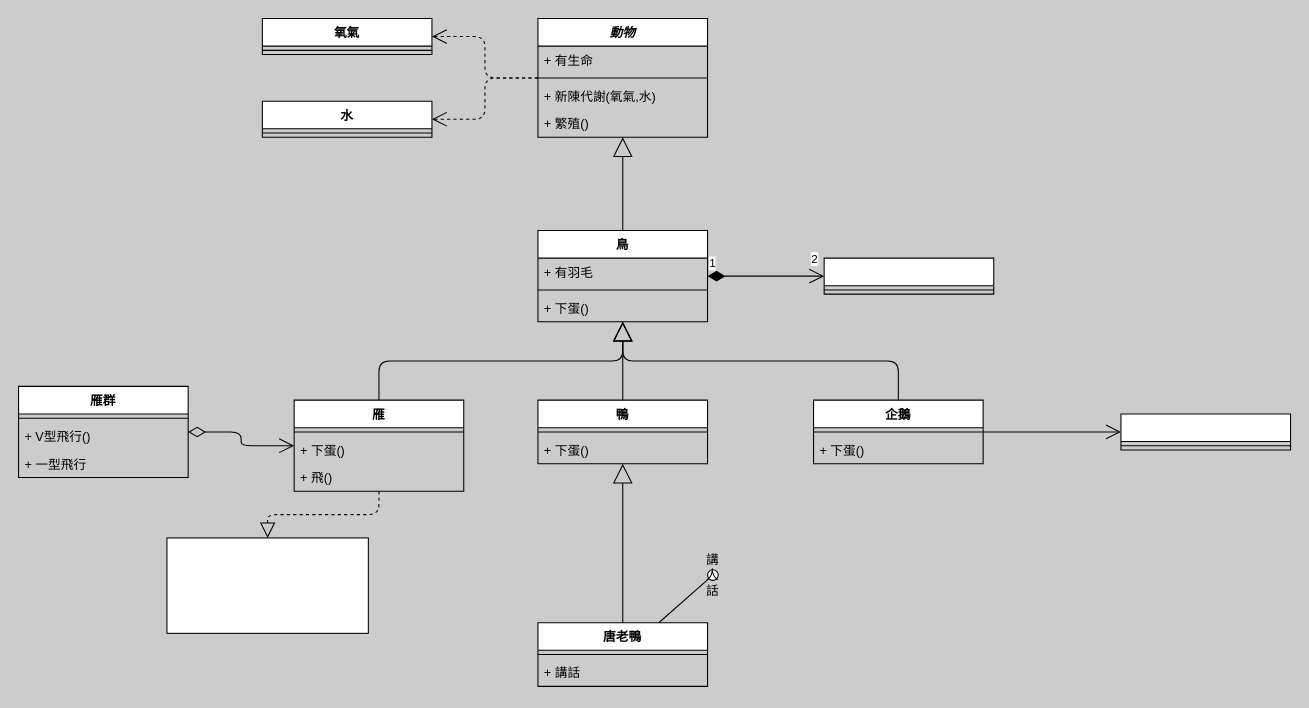
Image size: 1309x708. Some labels were removed from this diagram. The centre of each missing label's shape, as x and y in pixels:
"<<Interface>> 飛翔 + 飛()" goes at point 267,585.
"氣候" goes at point 1205,431.
"翅膀" goes at point 908,275.
